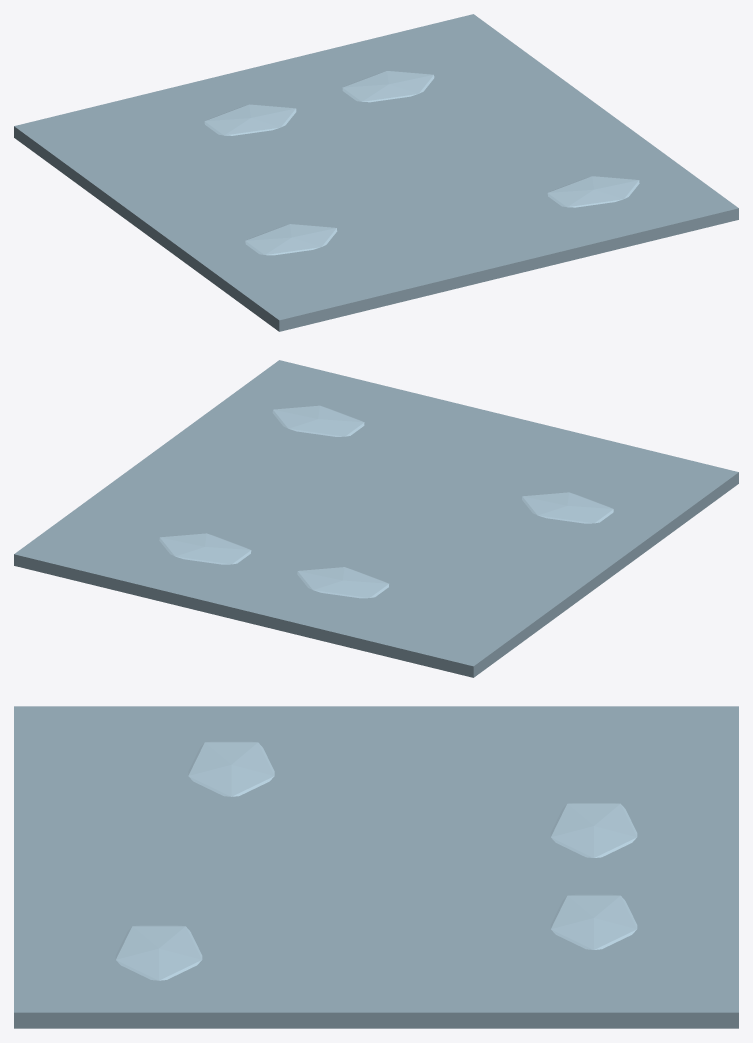
File: SH10_L06_Ground.fbx
The picture shows the model from 3 angles, top to bottom: view 1: azimuth 30°, elevation 25°; view 2: azimuth 150°, elevation 25°; view 3: azimuth 270°, elevation 25°; orthographic projection. The views are drawn at different scales.
Visible parts, largest first — view 1: SH10_L06_Ground; view 2: SH10_L06_Ground; view 3: SH10_L06_Ground.
Boxes of the visible parts, left/top/right/bottom form: SH10_L06_Ground: left=14, top=14, right=738, bottom=331; SH10_L06_Ground: left=14, top=360, right=738, bottom=677; SH10_L06_Ground: left=14, top=706, right=738, bottom=1028.
Bounding box in the file's own units: 1000 × 28.5 × 1000.
